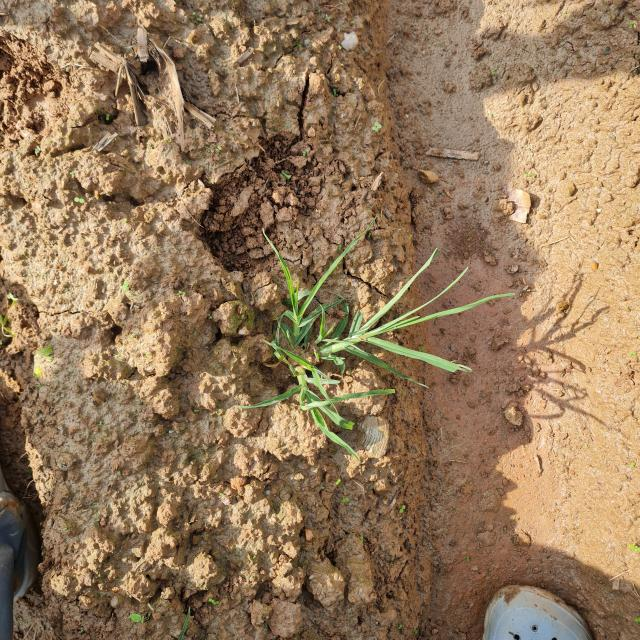weed: (216, 227, 512, 440)
